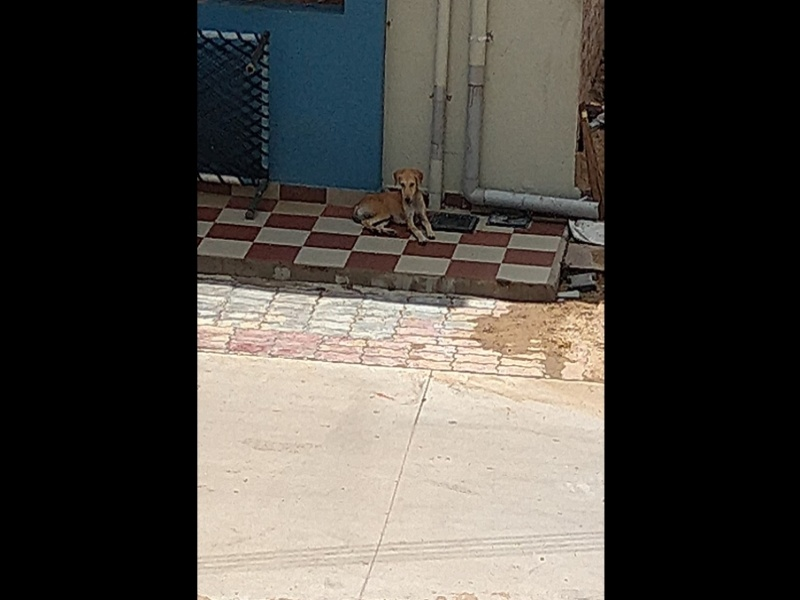dog: (351, 169, 442, 245)
